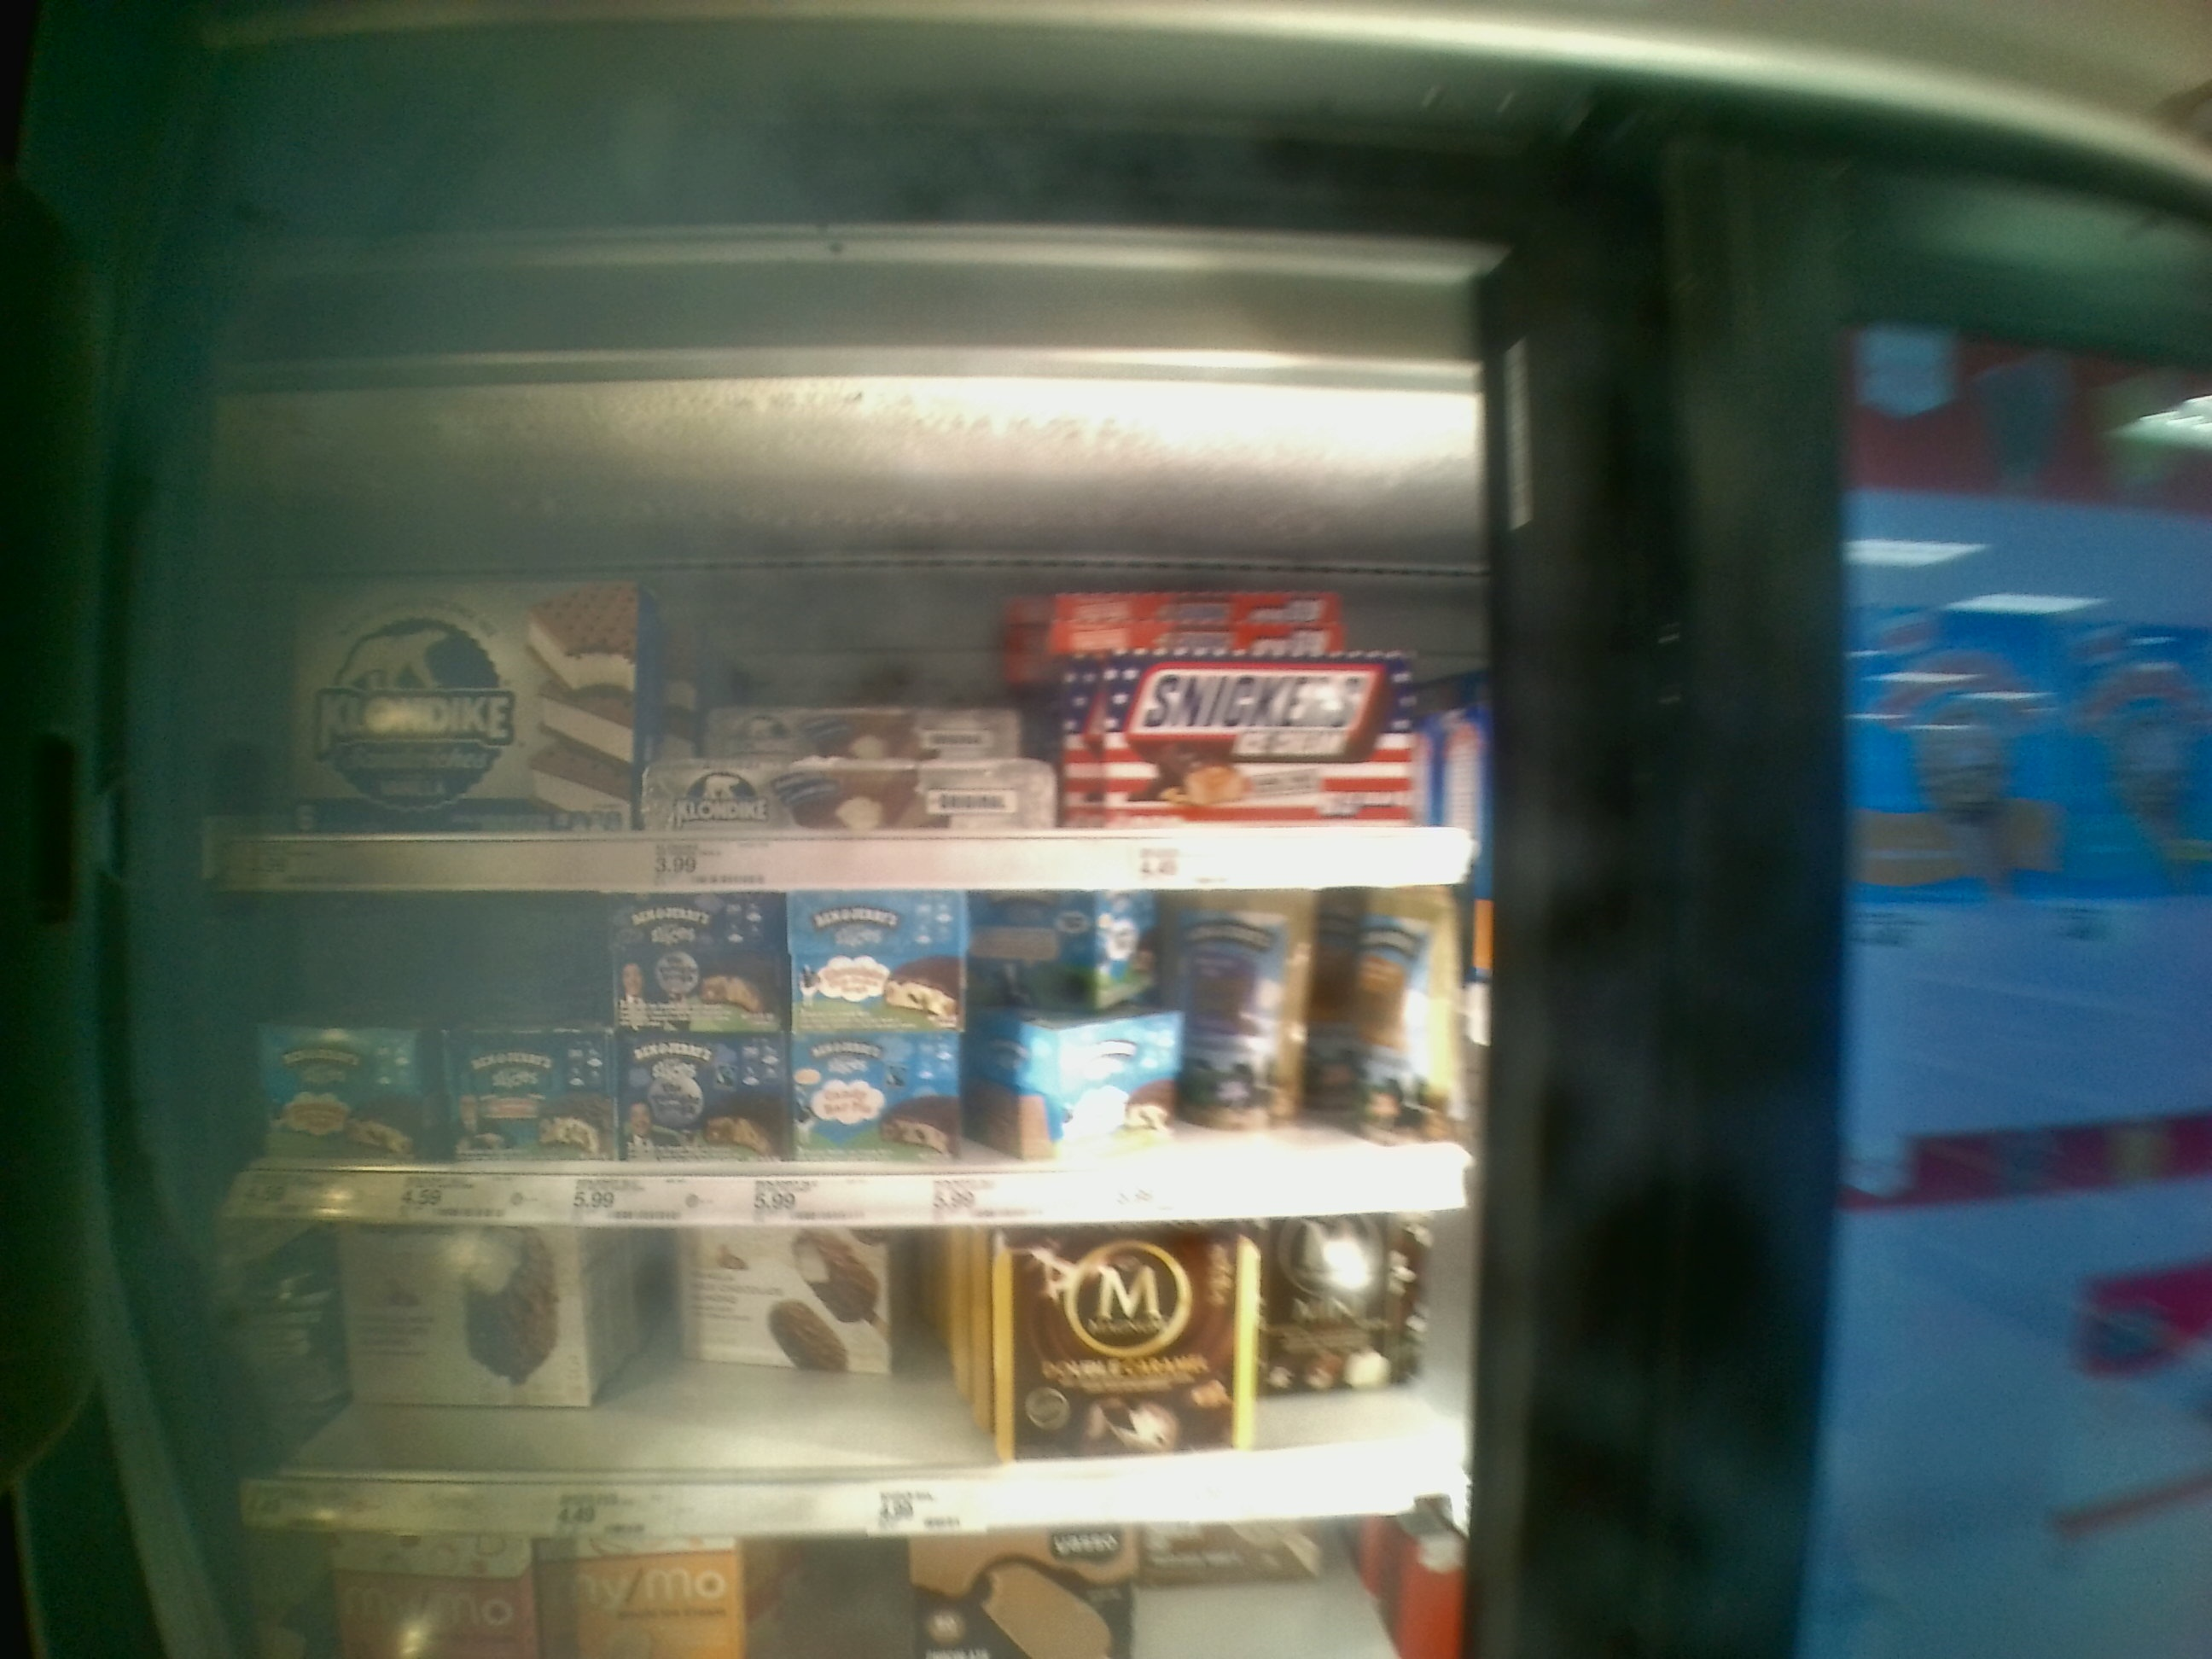ice-cream-shelf: (216, 462, 1486, 892), (218, 889, 1489, 1213), (225, 1220, 1496, 1527)
